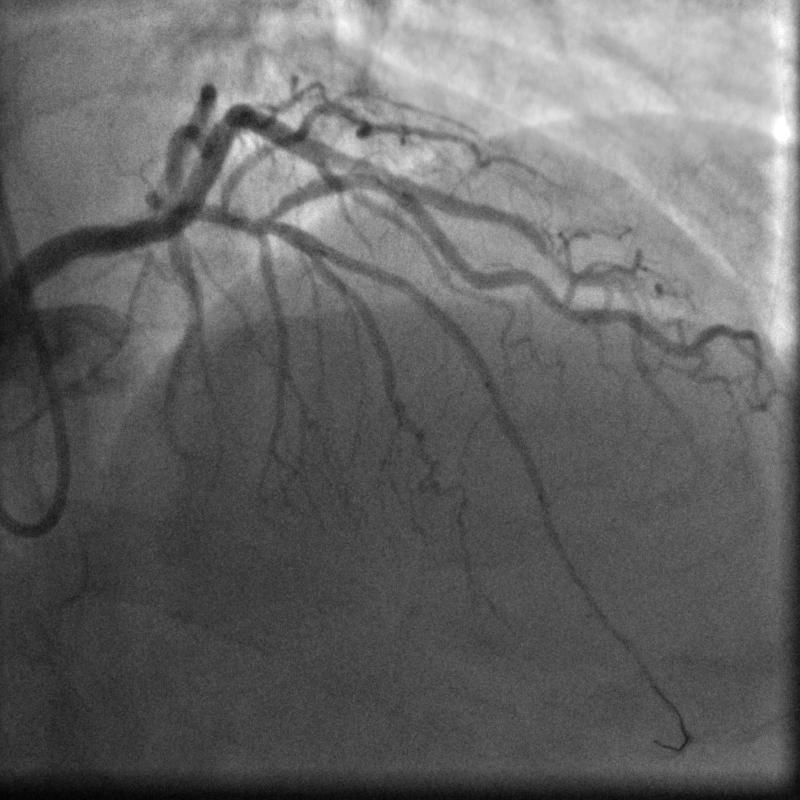Stenosis: (369, 165, 404, 205)
